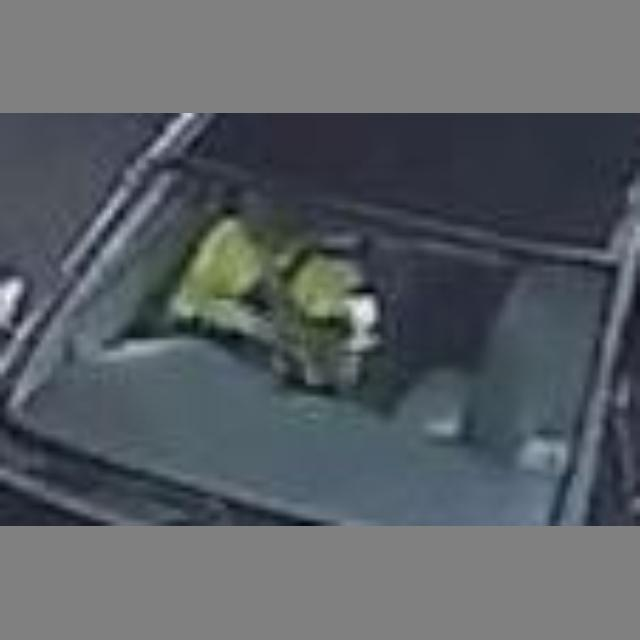tidak-pakai: (136, 153, 436, 430)
